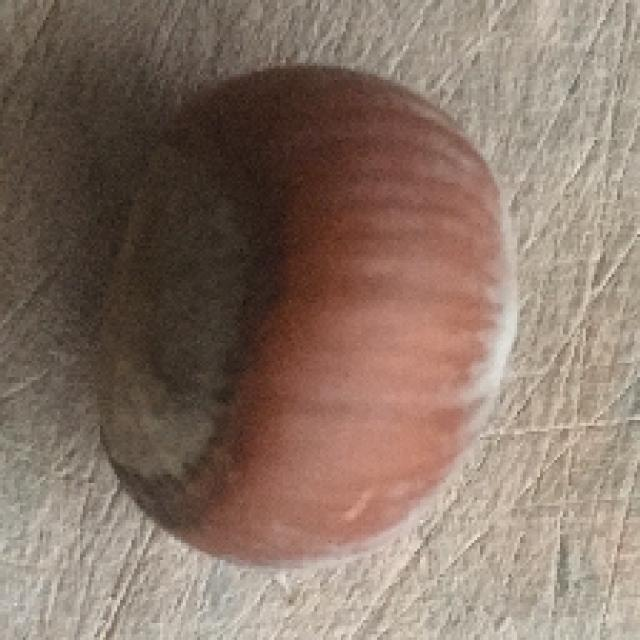qualityHazelnut: (92, 53, 524, 574)
